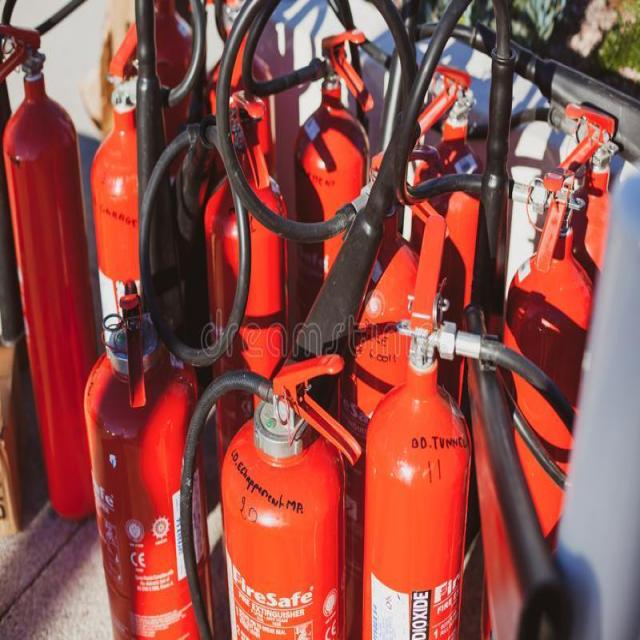fire_extinguisher: (357, 200, 626, 639), (320, 140, 462, 639), (472, 157, 610, 639), (394, 43, 504, 639), (174, 347, 371, 639), (0, 19, 110, 540), (86, 7, 189, 561), (76, 271, 228, 639), (285, 2, 382, 560), (541, 91, 639, 639), (196, 84, 291, 572)
